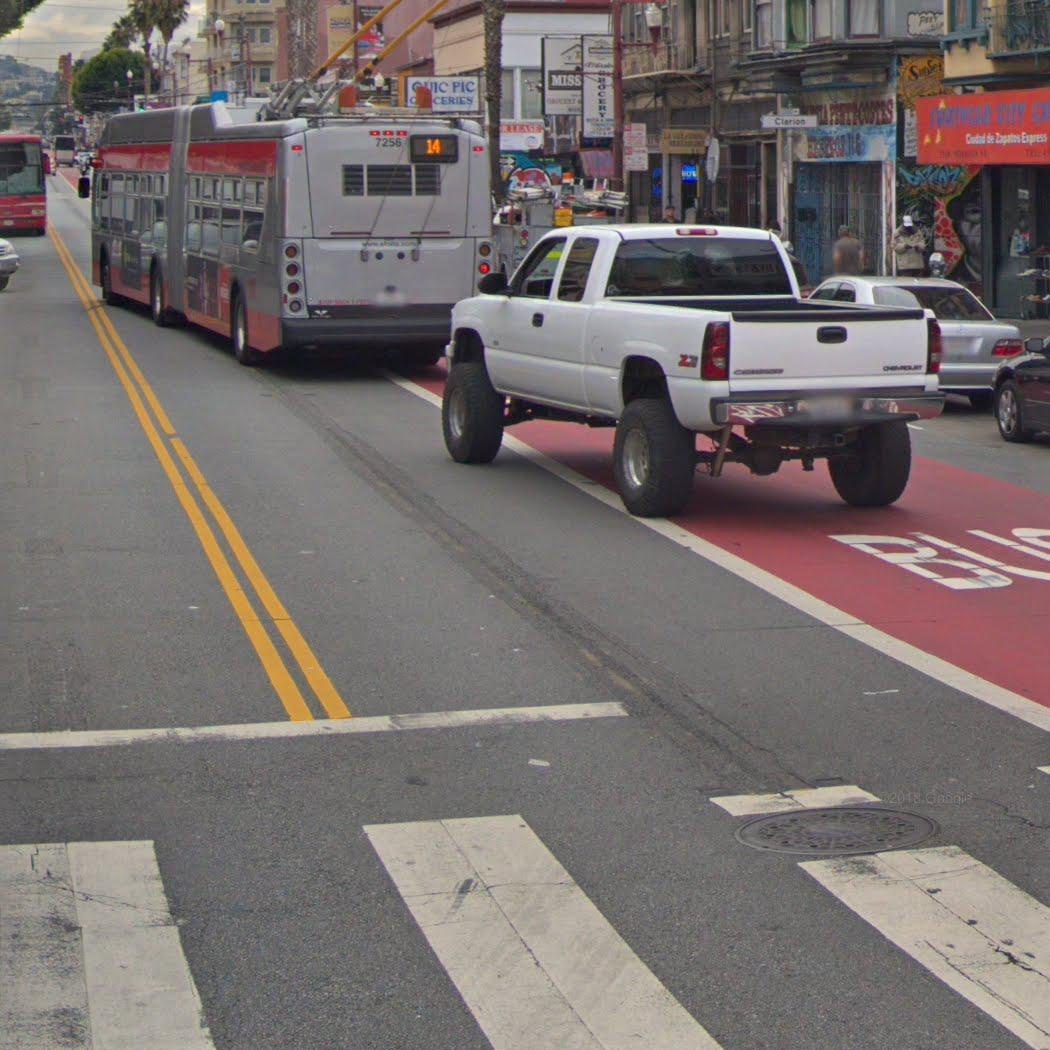No Parking: (622, 121, 648, 149)
